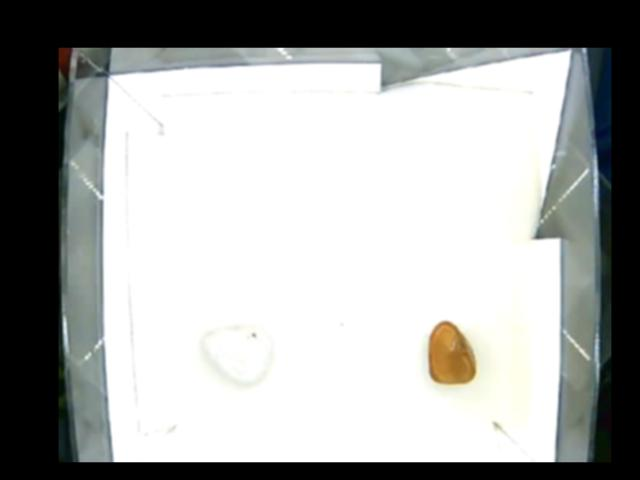Pebble: (203, 325, 273, 387), (427, 318, 477, 384)
